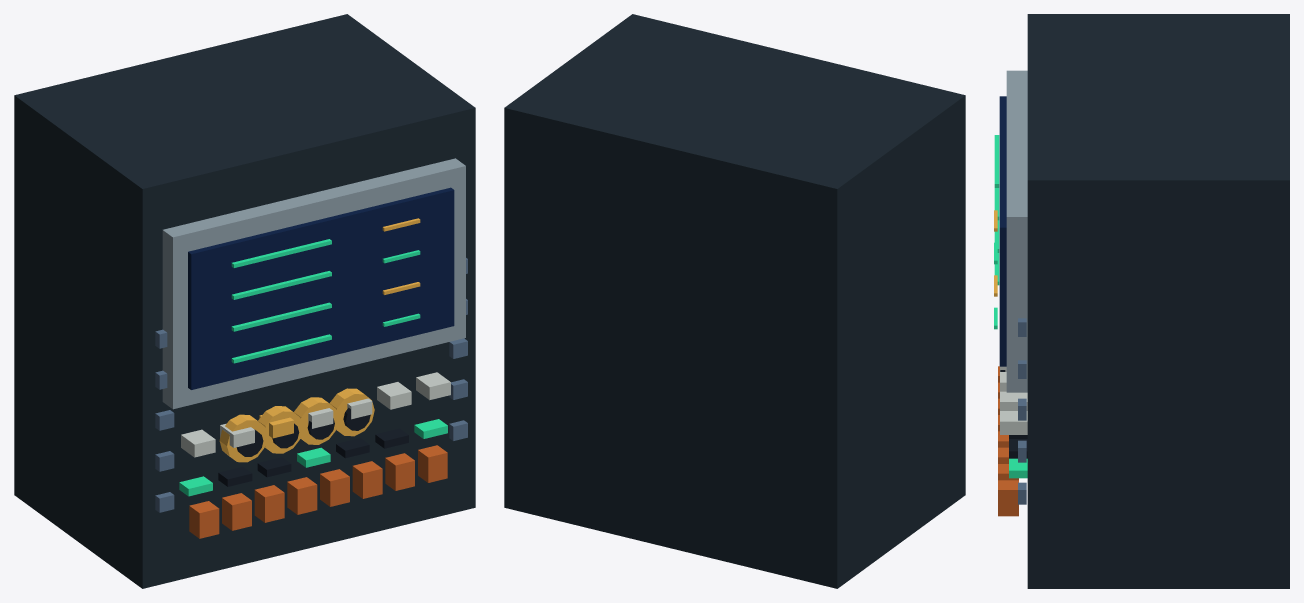
The model's file is 23_L84_ReactionWheelTachometerArray.fbx.
The picture shows the model from 3 angles, left to right: view 1: azimuth 30°, elevation 25°; view 2: azimuth 150°, elevation 25°; view 3: azimuth 270°, elevation 25°; orthographic projection. The views are drawn at different scales.
Parts seen in each view (by area): view 1: L84_ReactionWheelTachometerArray, L84_ReactionWheelTachometerArray_Part_0011, L84_ReactionWheelTachometerArray_Part_0017, L84_ReactionWheelTachometerArray_Part_0015, L84_ReactionWheelTachometerArray_Part_0013; view 2: L84_ReactionWheelTachometerArray; view 3: L84_ReactionWheelTachometerArray.
Boxes of the visible parts, x1,y1,x2,y2 form: L84_ReactionWheelTachometerArray: (14, 14, 475, 588); L84_ReactionWheelTachometerArray_Part_0011: (219, 414, 267, 462); L84_ReactionWheelTachometerArray_Part_0017: (329, 388, 374, 436); L84_ReactionWheelTachometerArray_Part_0015: (294, 397, 337, 444); L84_ReactionWheelTachometerArray_Part_0013: (258, 406, 302, 453); L84_ReactionWheelTachometerArray: (504, 14, 965, 588); L84_ReactionWheelTachometerArray: (994, 14, 1289, 588).
Bounding box in the file's own units: 107 × 123 × 80.59.
